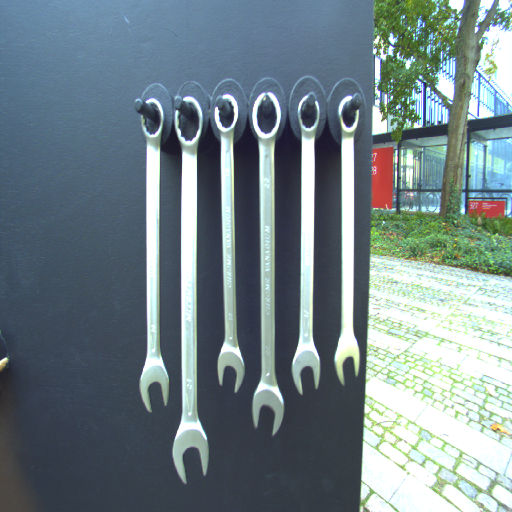bottom: (169, 420, 212, 486), (136, 361, 174, 415), (250, 379, 284, 437), (214, 342, 246, 396), (289, 344, 322, 396), (329, 331, 362, 382)
top: (171, 94, 204, 149), (249, 91, 283, 140), (210, 90, 241, 138), (137, 97, 167, 143), (333, 93, 363, 138), (295, 91, 323, 134)
